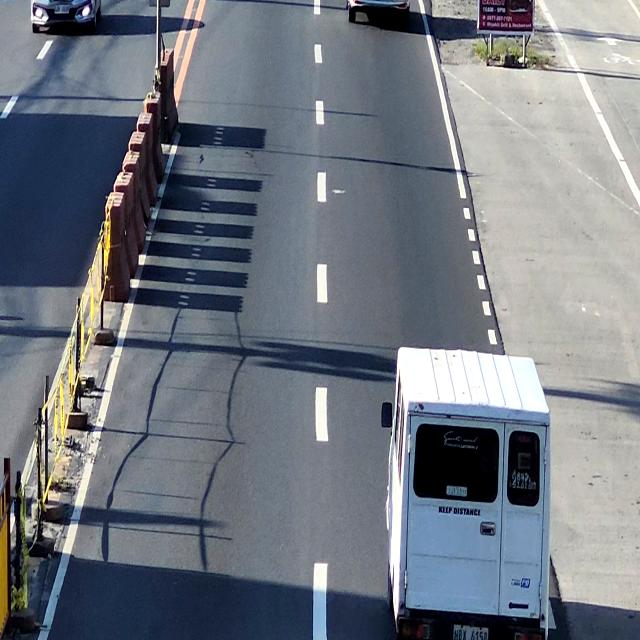Car: (386, 342, 552, 640)
License-Plate: (453, 624, 491, 640)
